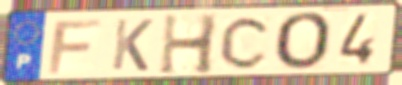4: (337, 12, 379, 68)
C: (217, 14, 274, 71)
F: (45, 18, 104, 76)
H: (157, 12, 221, 77)
K: (109, 18, 156, 73)
O: (273, 10, 335, 73)
